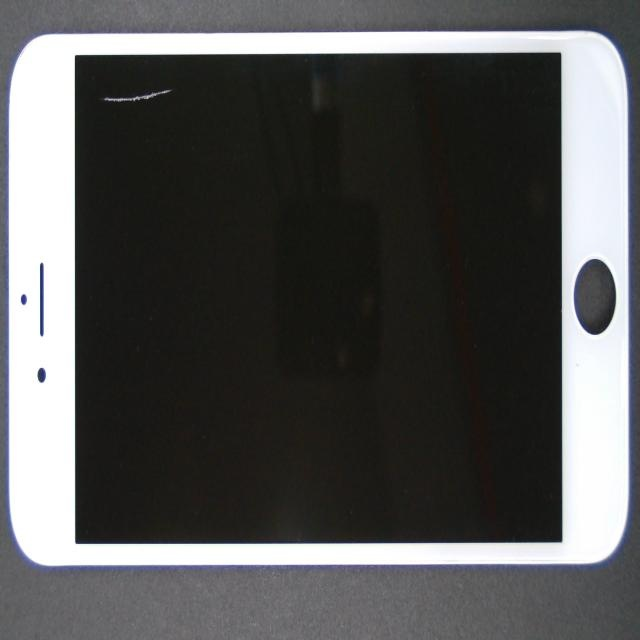scratch: (132, 40, 223, 119)
